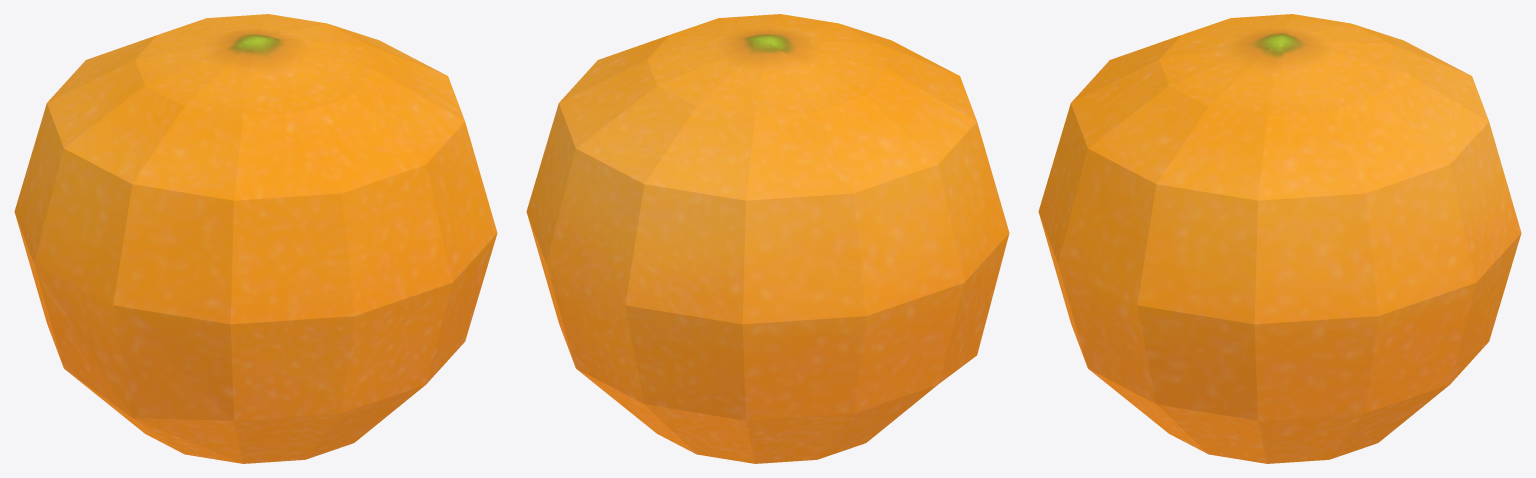
File: orange.gltf
3 renders of one model, left to right at view 1: azimuth 30°, elevation 25°; view 2: azimuth 150°, elevation 25°; view 3: azimuth 270°, elevation 25°, orthographic.
Parts seen in each view (by area): view 1: fruis_and_vegetables.035; view 2: fruis_and_vegetables.035; view 3: fruis_and_vegetables.035.
Part boxes in pixels (x1,y1,x2,y2): fruis_and_vegetables.035: (14,14,497,463); fruis_and_vegetables.035: (526,14,1009,463); fruis_and_vegetables.035: (1038,14,1521,463).
Size of the model in its own units: 0.1459 by 0.127 by 0.1459.
Materials: 1 (1 with a texture image).
